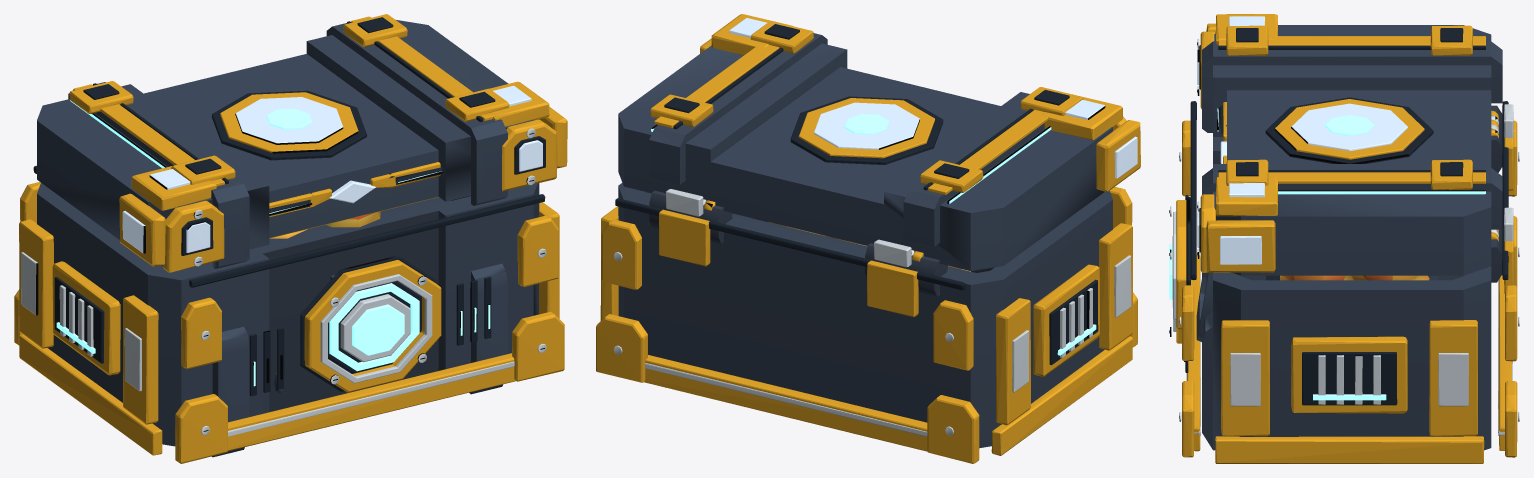
Rendered from solar-relay.glb.
3 views of the same model, side by side, from view 1: azimuth 30°, elevation 25°; view 2: azimuth 150°, elevation 25°; view 3: azimuth 270°, elevation 25° (orthographic).
Parts seen in each view (by area): view 1: Body, LidShell, CoinPile; view 2: Body, LidShell; view 3: LidShell, Body, CoinPile.
Part boxes in pixels (box(x1,y1,x2,y2)): Body: box(14, 165, 564, 463); LidShell: box(37, 14, 567, 272); CoinPile: box(270, 211, 380, 238); Body: box(596, 183, 1137, 463); LidShell: box(618, 14, 1140, 270); LidShell: box(1197, 14, 1513, 275); Body: box(1169, 101, 1519, 463); CoinPile: box(1280, 275, 1429, 280).
Size of the model in its own units: 2.2 by 1.35 by 1.55.
2 materials, 2 textured.
